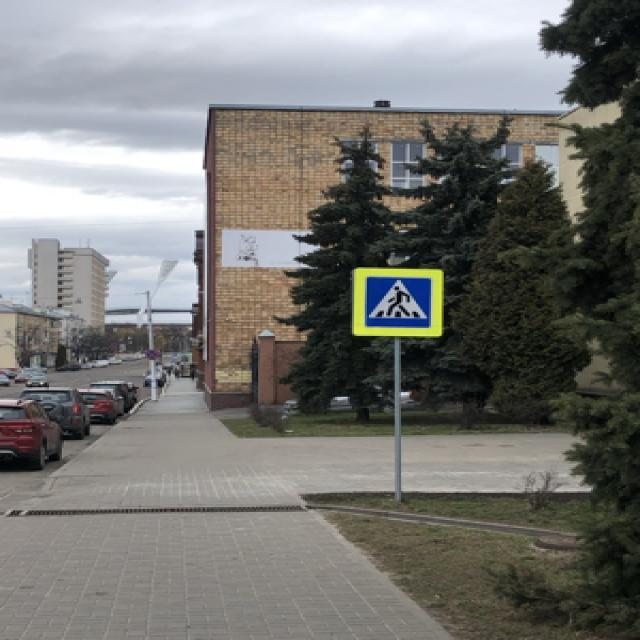crosswalk_sign: (360, 271, 438, 332)
